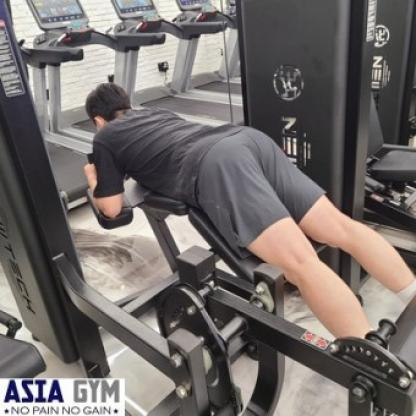reg curl machine: (56, 0, 416, 416)
